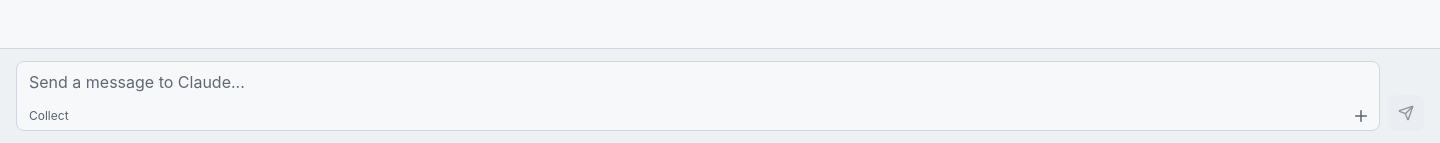
Test: 记为约定 chunk load failure › keeps AcpChatView and the composer mounted
Click the button named "更多": (1361, 116) [1347,102,1375,130]
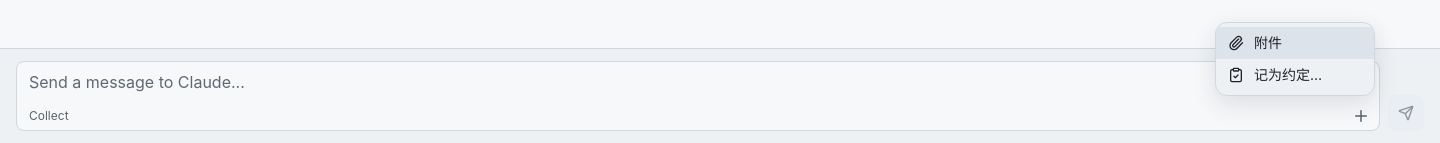
Click the menu item "记为约定…": (1295, 75) [1216,59,1374,91]
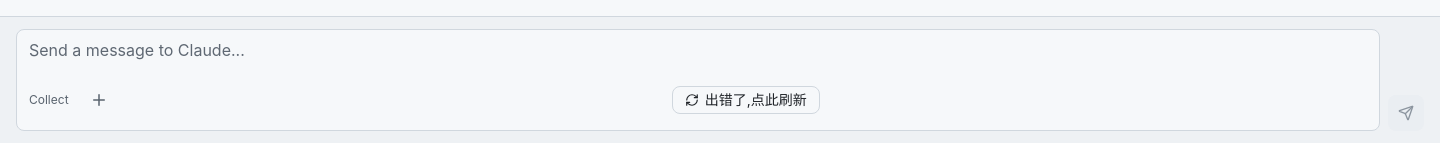
Expected: the button named "更多" is shown, [85,86,113,114]
Expected: the button "出错了,点此刷新" is shown, [672,86,820,114]
